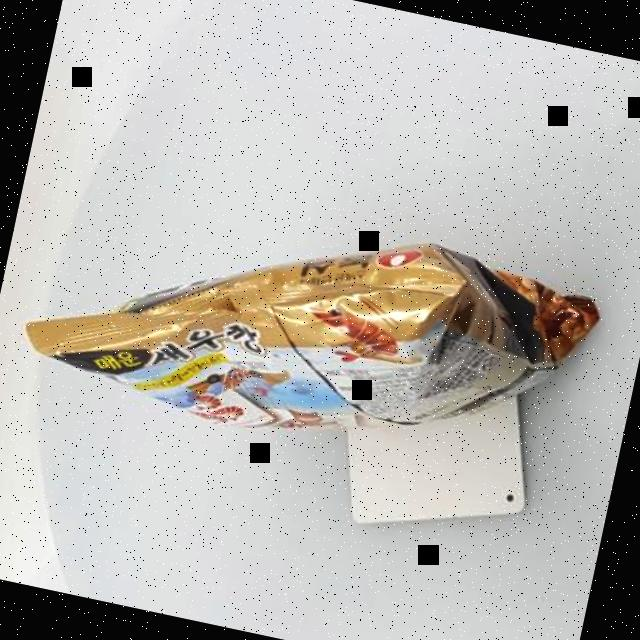snack_bag: (2, 125, 616, 508)
